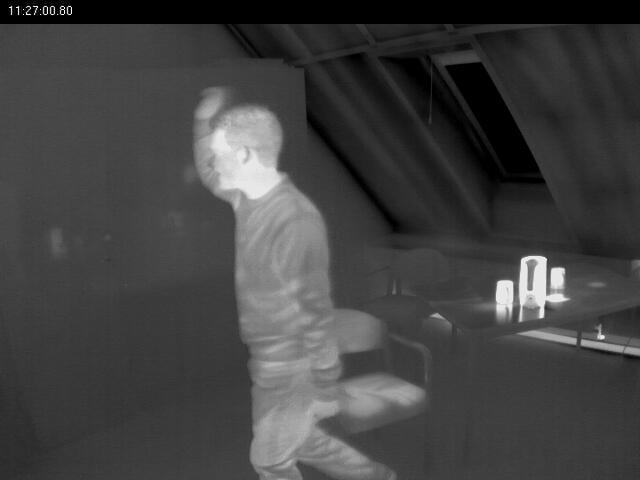person: (195, 87, 352, 480)
